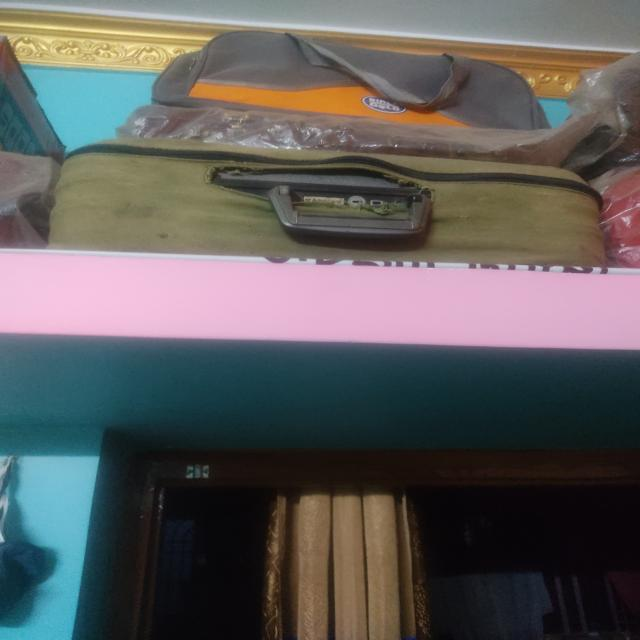suitcaserotation: (12, 131, 615, 270), (147, 27, 554, 136)
